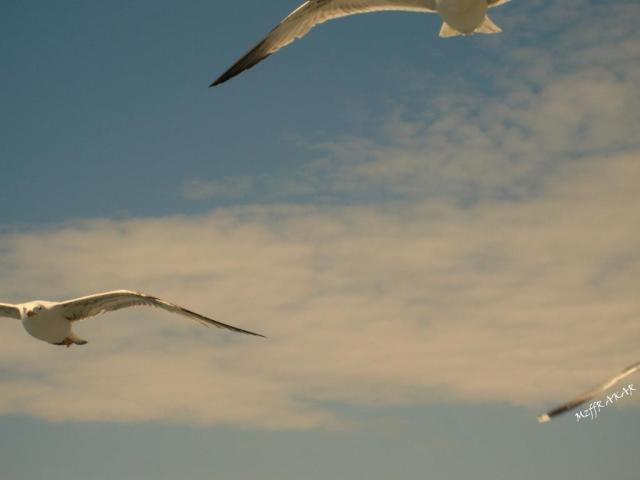Bird: (206, 0, 513, 91), (0, 288, 268, 349), (536, 353, 640, 426)
